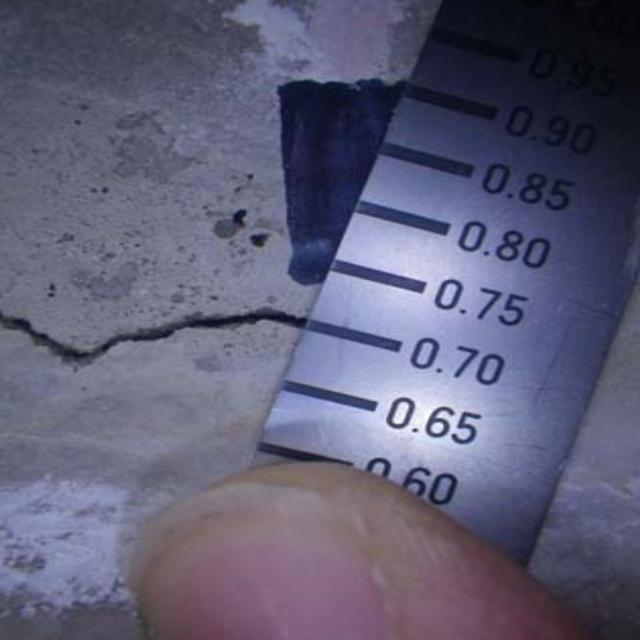crack: (6, 280, 306, 367)
